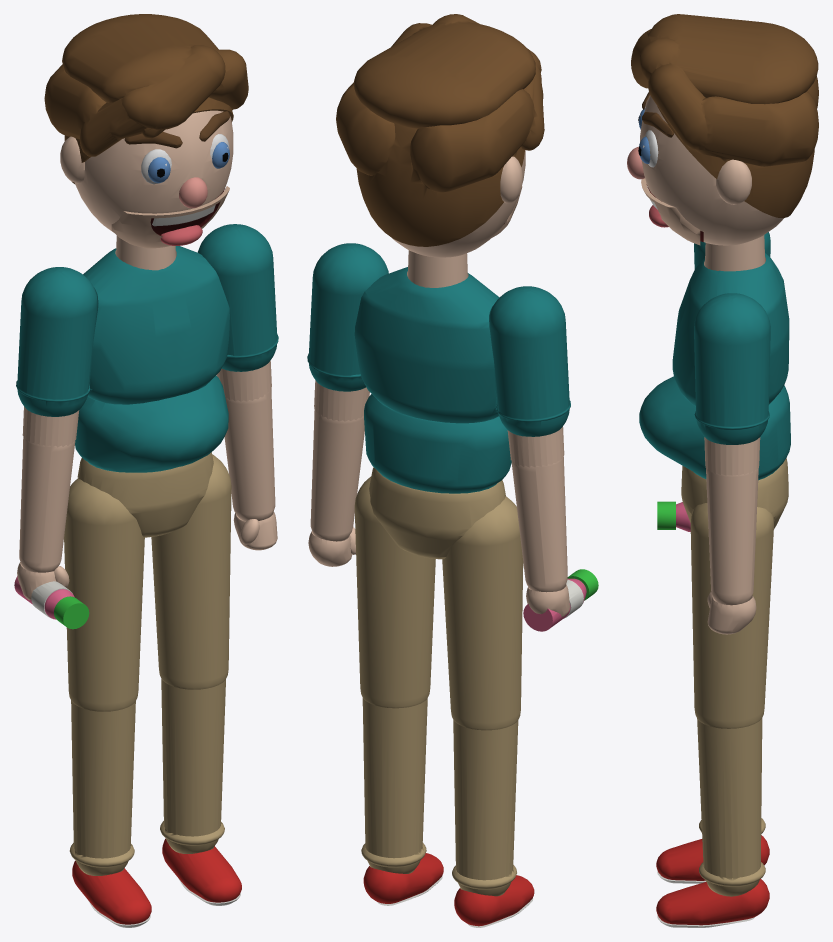
File: fb_mogu_mogu.glb
The picture shows the model from 3 angles, left to right: view 1: azimuth 30°, elevation 25°; view 2: azimuth 150°, elevation 25°; view 3: azimuth 270°, elevation 25°; orthographic projection.
Parts seen in each view (by area): view 1: creature; view 2: creature; view 3: creature.
Boxes of the visible parts, <box> form: creature: <box>14,14,278,927</box>; creature: <box>307,14,598,927</box>; creature: <box>627,14,818,927</box>.
Bounding box in the file's own units: 0.3056 × 1 × 0.1996.
